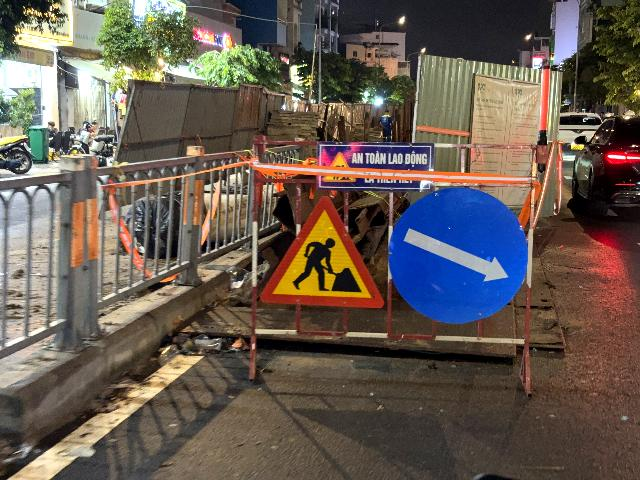cong-truong-dang-thi-cong: (260, 196, 384, 309)
huong-phai-di-vong-chuong-ngai-vat: (388, 185, 529, 326)
